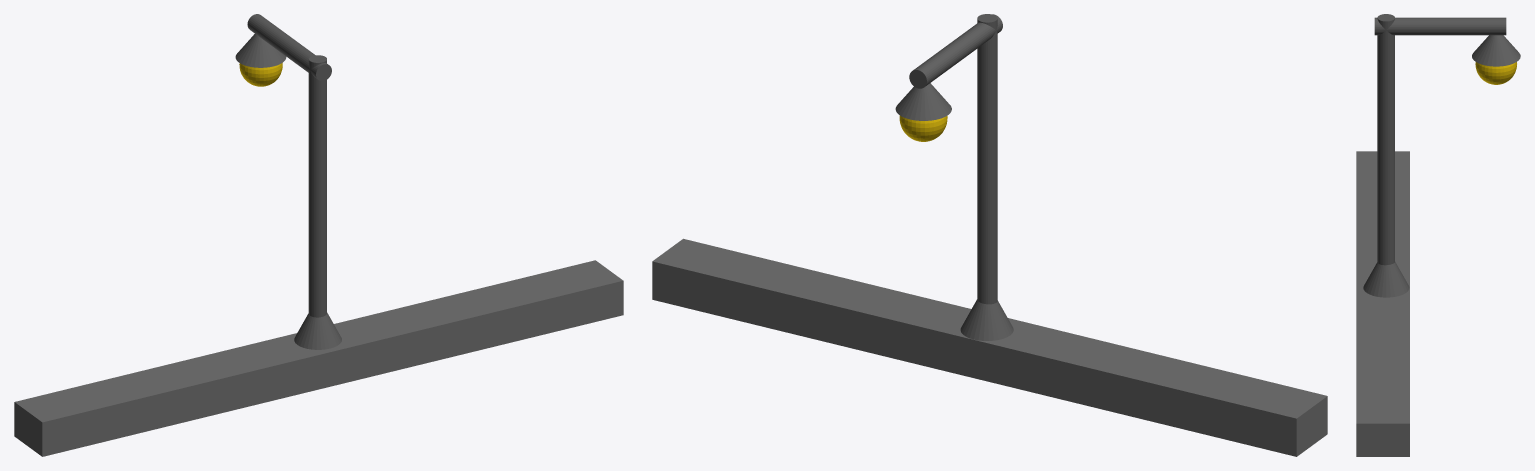
Rendered from ParkinglotEdgeLampFixed.fbx.
3 renders of one model, left to right at view 1: azimuth 30°, elevation 25°; view 2: azimuth 150°, elevation 25°; view 3: azimuth 270°, elevation 25°, orthographic. The views are drawn at different scales.
Visible parts, largest first — view 1: Cone.001; view 2: Cone.001; view 3: Cone.001.
Part boxes in pixels (<box>): Cone.001: <box>14,14,623,456</box>; Cone.001: <box>652,14,1327,456</box>; Cone.001: <box>1356,14,1520,456</box>.
Bounding box in the file's own units: 600 × 311 × 153.
